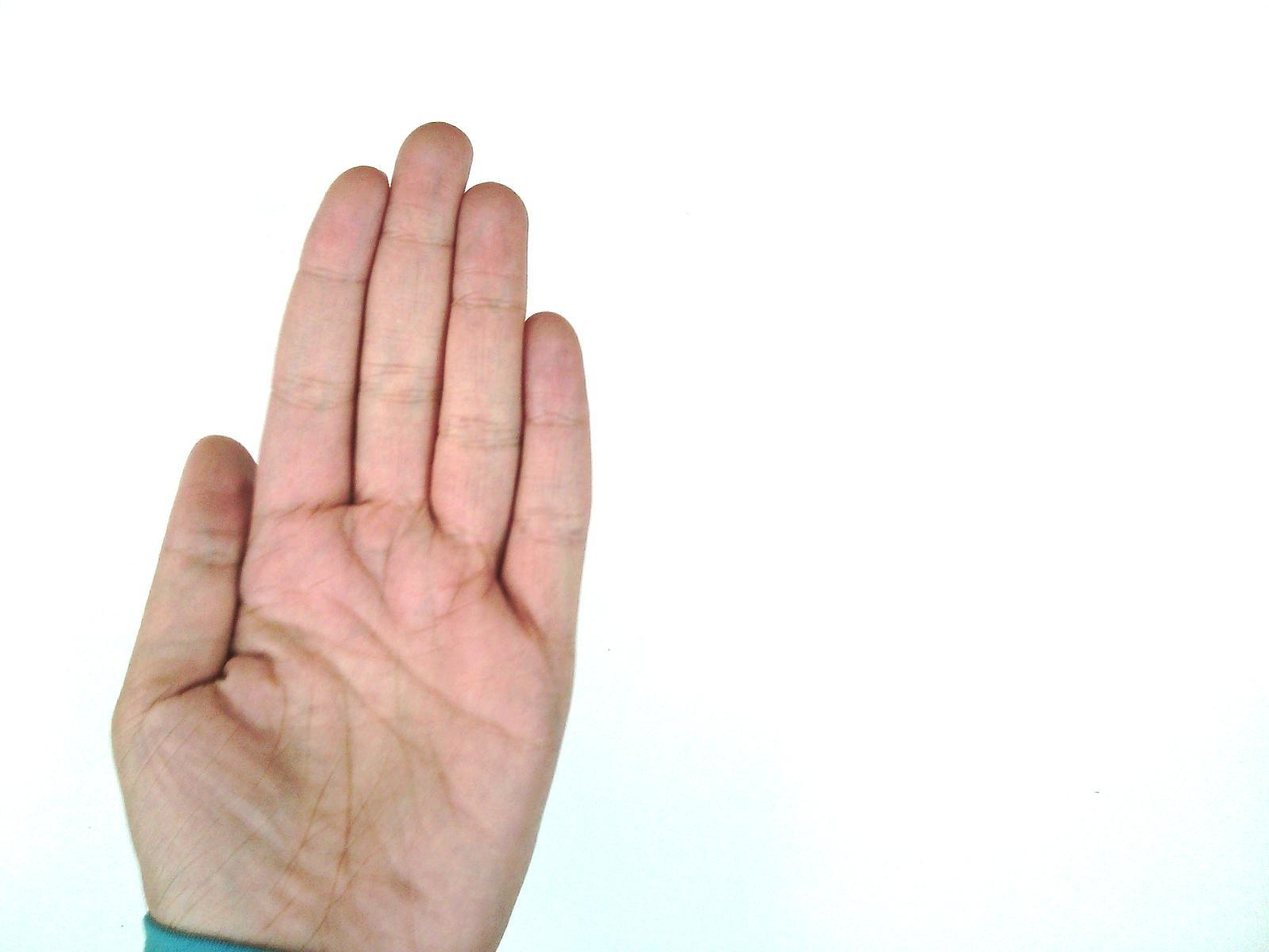open_palm: (109, 121, 596, 951)
